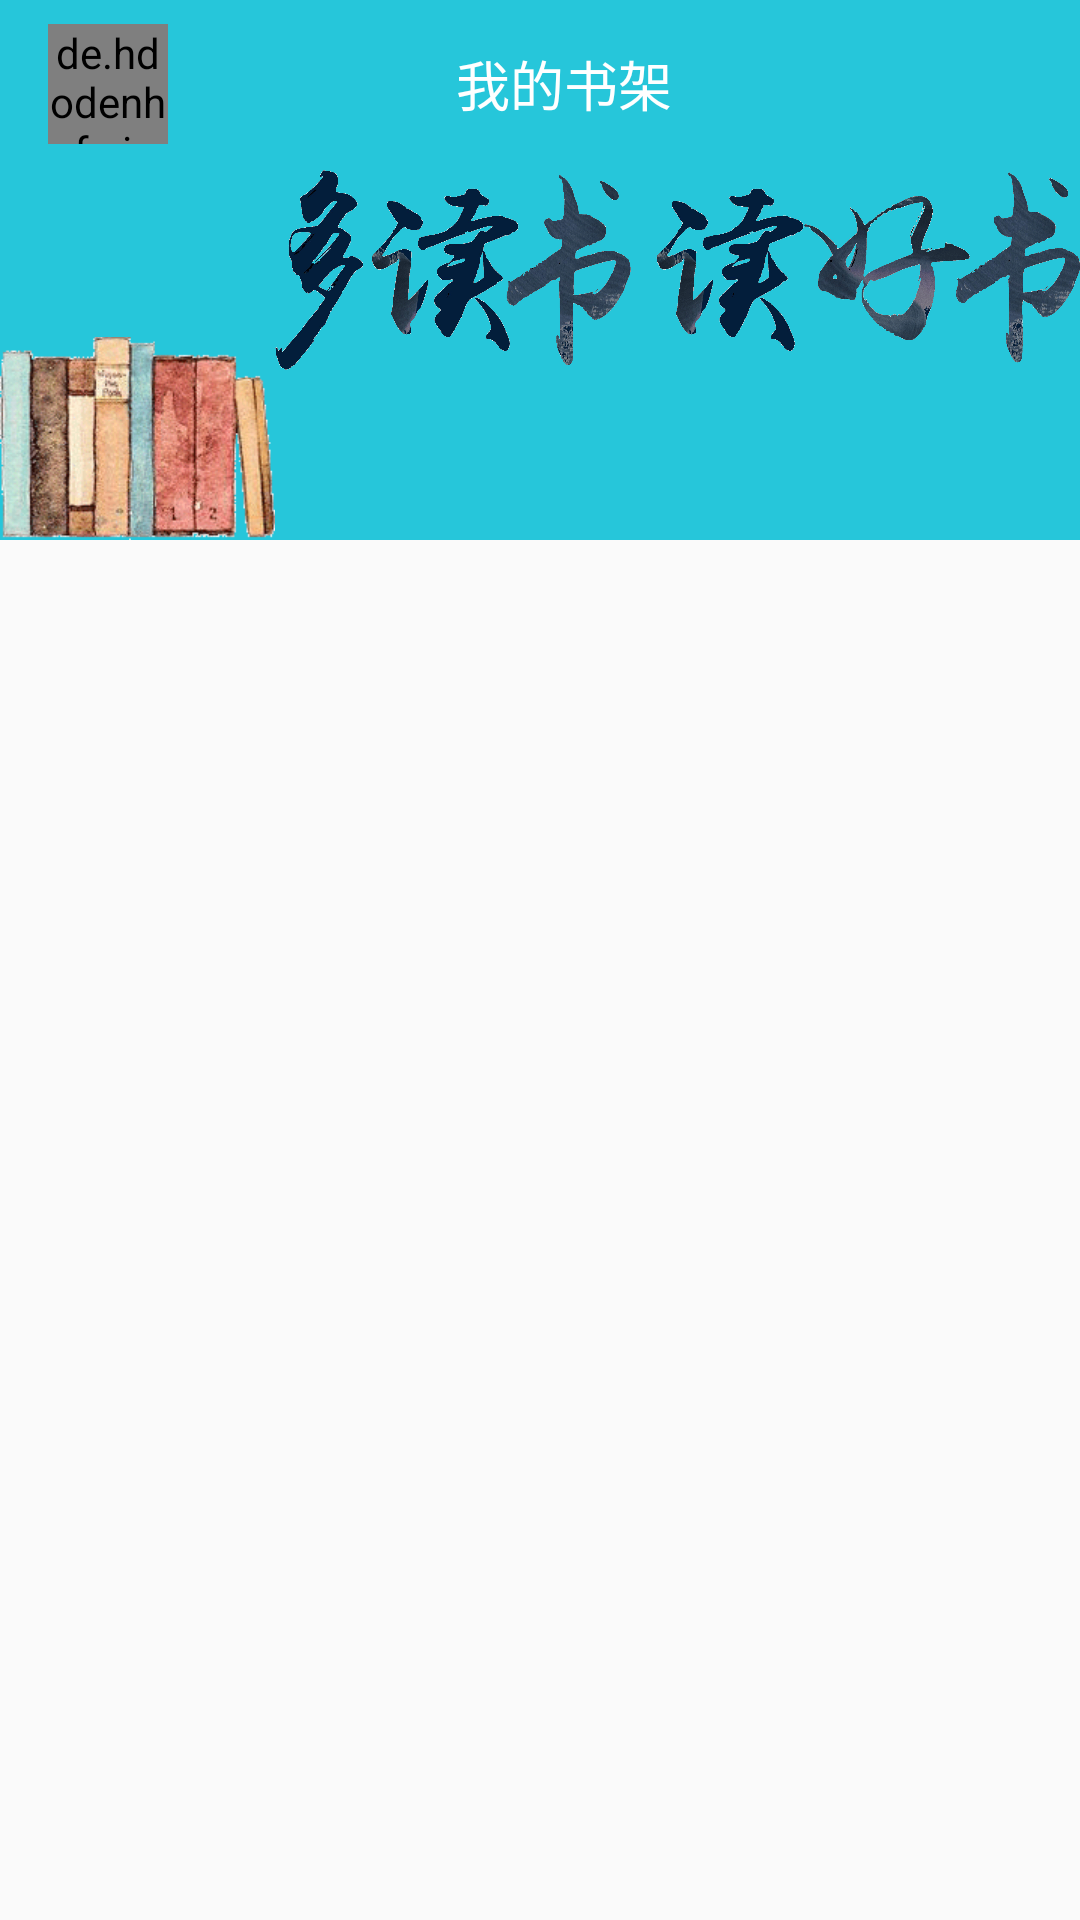

Icon click points for this 1080px x 1920px phone screenshot, format (x,y):
book: (137,437)
